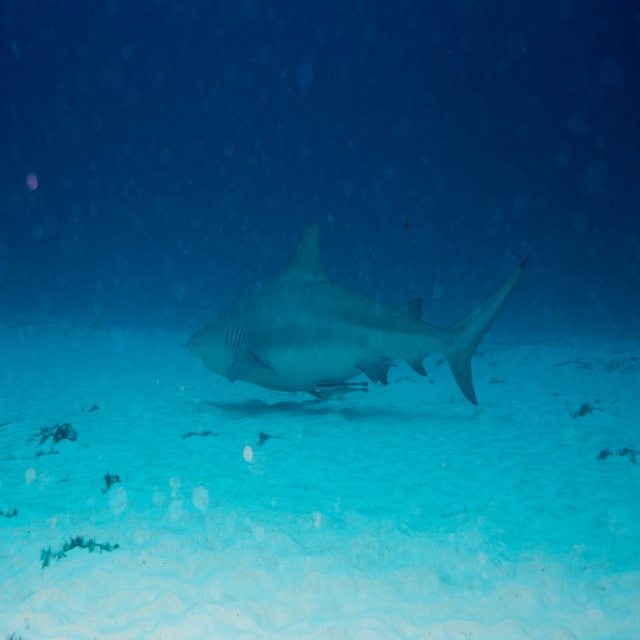Shark: (187, 223, 529, 403)
